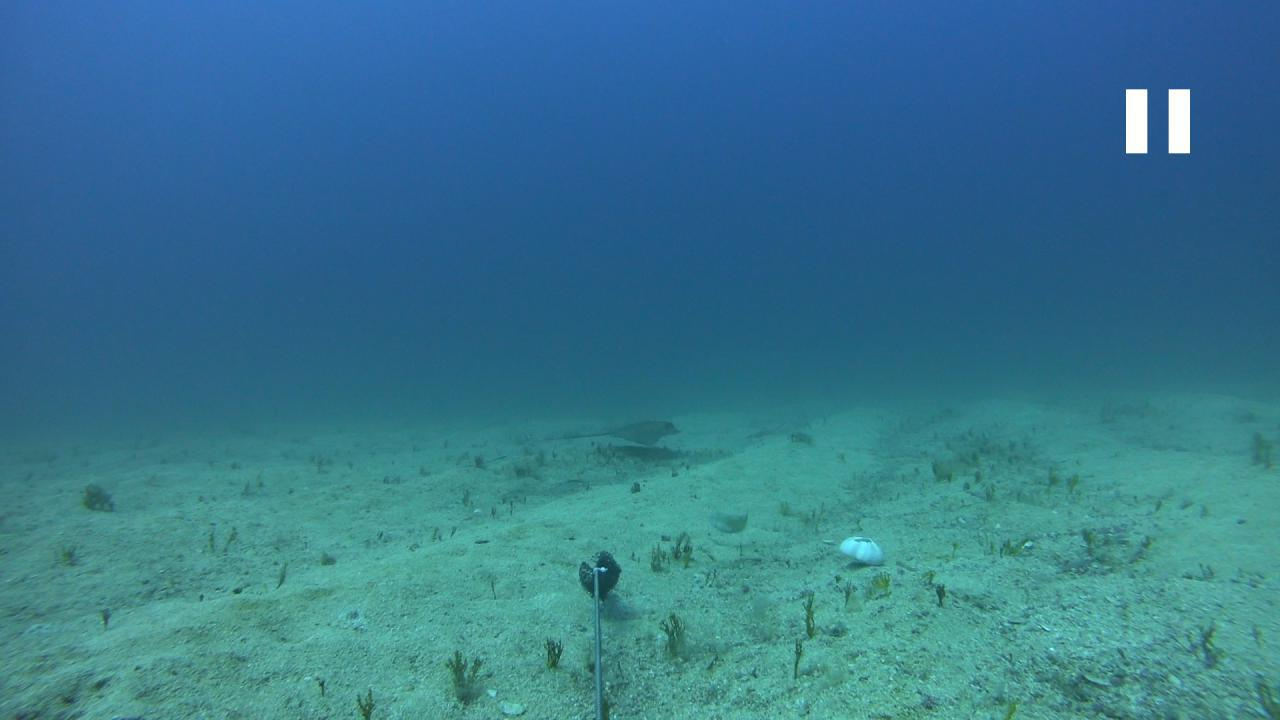dasyatis: (542, 418, 682, 446)
